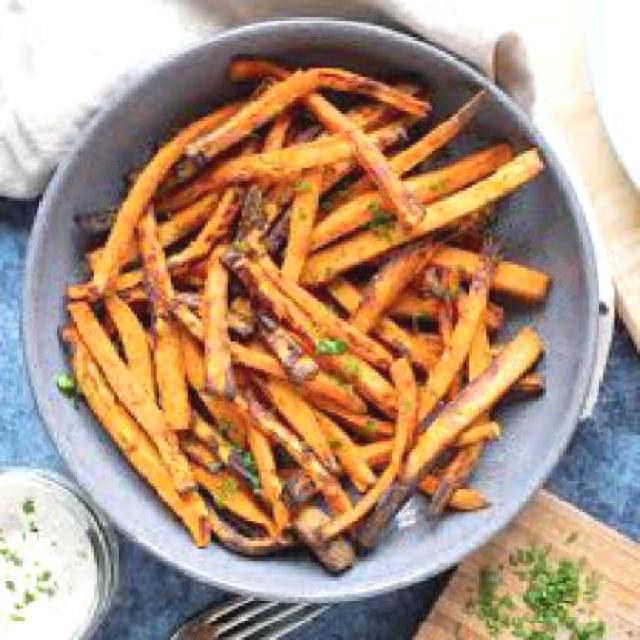fries: (62, 54, 555, 577)
